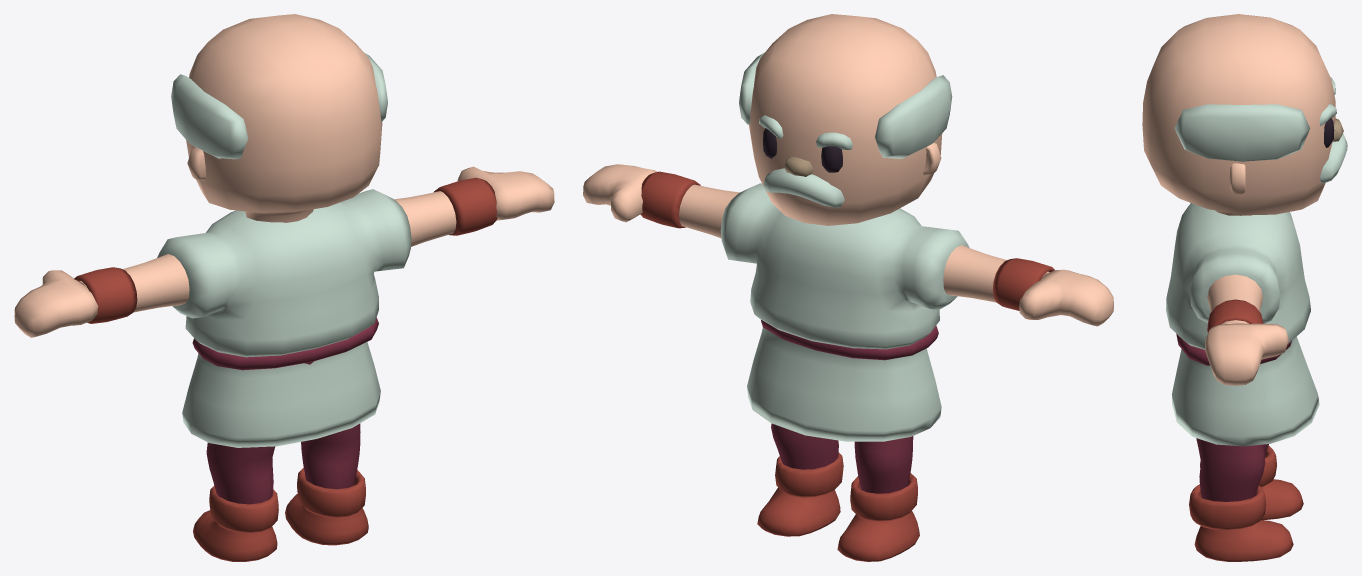
The model's file is man_07.fbx.
3 renders of one model, left to right at view 1: azimuth 30°, elevation 25°; view 2: azimuth 150°, elevation 25°; view 3: azimuth 270°, elevation 25°, orthographic. The views are drawn at different scales.
Visible parts, largest first — view 1: Cube.016; view 2: Cube.016; view 3: Cube.016.
Boxes of the visible parts, x1,y1,x2,y2 form: Cube.016: (14,14,554,561); Cube.016: (583,14,1113,561); Cube.016: (1142,14,1347,561).
Bounding box in the file's own units: 476 × 440 × 163.
